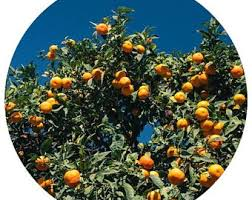orange: (137, 89, 150, 100), (120, 77, 132, 87)
